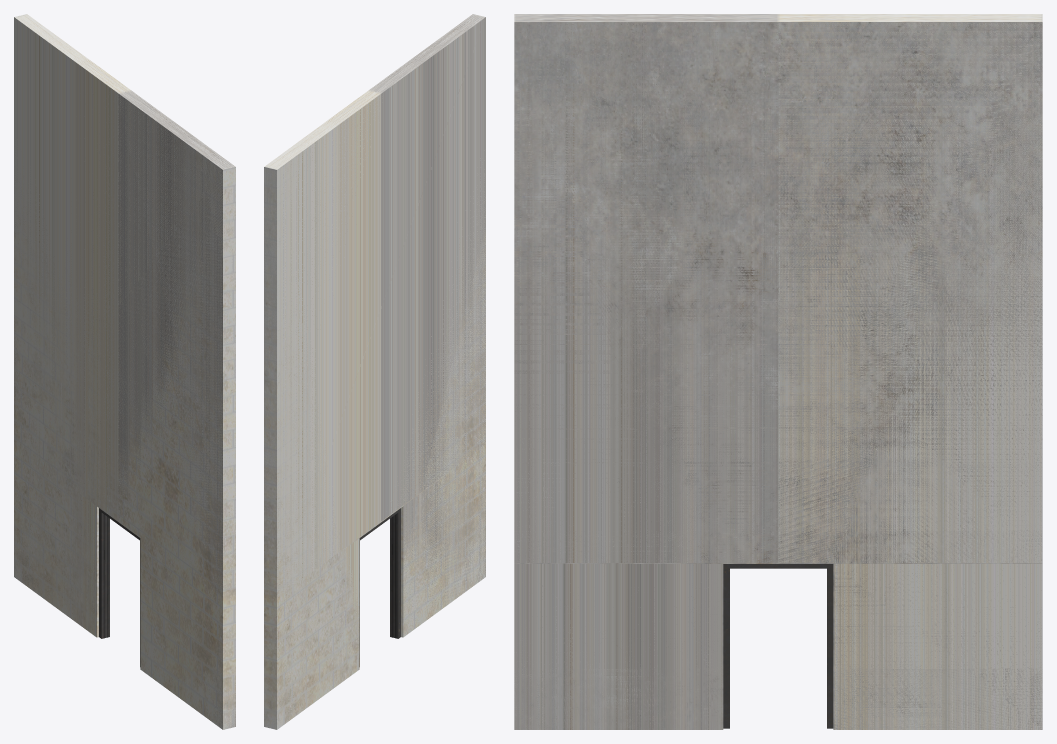
Rendered from warehouse_wall_door_02.DAE.
3 renders of one model, left to right at view 1: azimuth 30°, elevation 25°; view 2: azimuth 150°, elevation 25°; view 3: azimuth 270°, elevation 25°, orthographic. The views are drawn at different scales.
Visible parts, largest first — view 1: warehouse_wall_door_two, colbox-01, colbox-03, DoorFrame_two; view 2: colbox-01, warehouse_wall_door_two, colbox-02, colbox-03, DoorFrame_two; view 3: warehouse_wall_door_two, colbox-01, colbox-02, colbox-03, DoorFrame_two.
Part boxes in pixels (x1,y1,x2,y2): warehouse_wall_door_two: (14, 92, 235, 729); colbox-01: (14, 14, 235, 597); colbox-03: (14, 456, 96, 636); DoorFrame_two: (99, 508, 140, 666); colbox-01: (264, 14, 485, 596); warehouse_wall_door_two: (264, 95, 485, 729); colbox-02: (403, 447, 485, 627); colbox-03: (264, 538, 359, 729); DoorFrame_two: (359, 508, 400, 666); warehouse_wall_door_two: (514, 22, 1042, 729); colbox-01: (514, 14, 1042, 562); colbox-02: (514, 563, 722, 729); colbox-03: (834, 563, 1042, 729); DoorFrame_two: (723, 564, 833, 728).
Bounding box in the file's own units: 24 × 676 × 1000.
2 materials, 2 textured.
